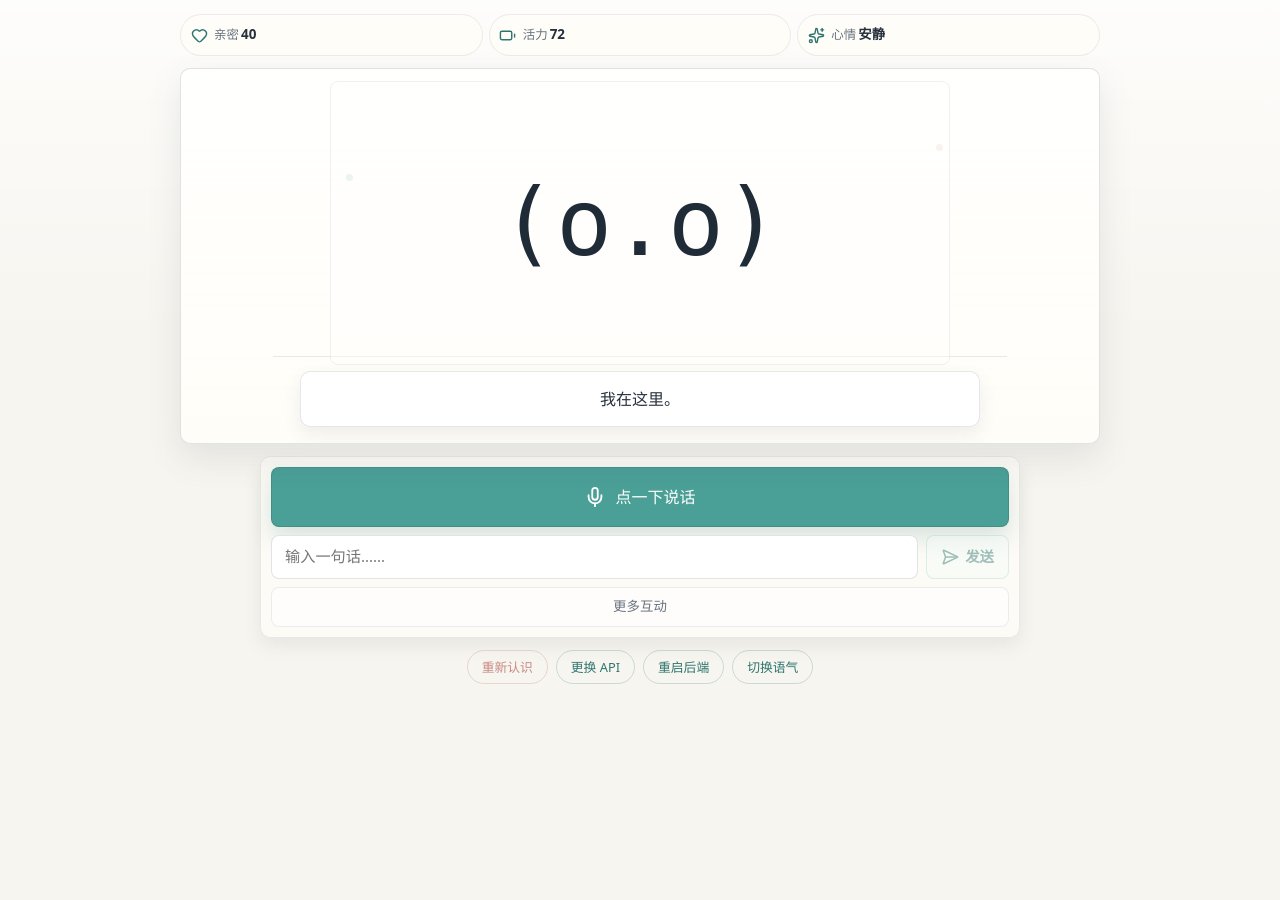
more interaction posts pet event and applies model response
Click the button "更多互动": [640, 607] box [271,587,1009,627]
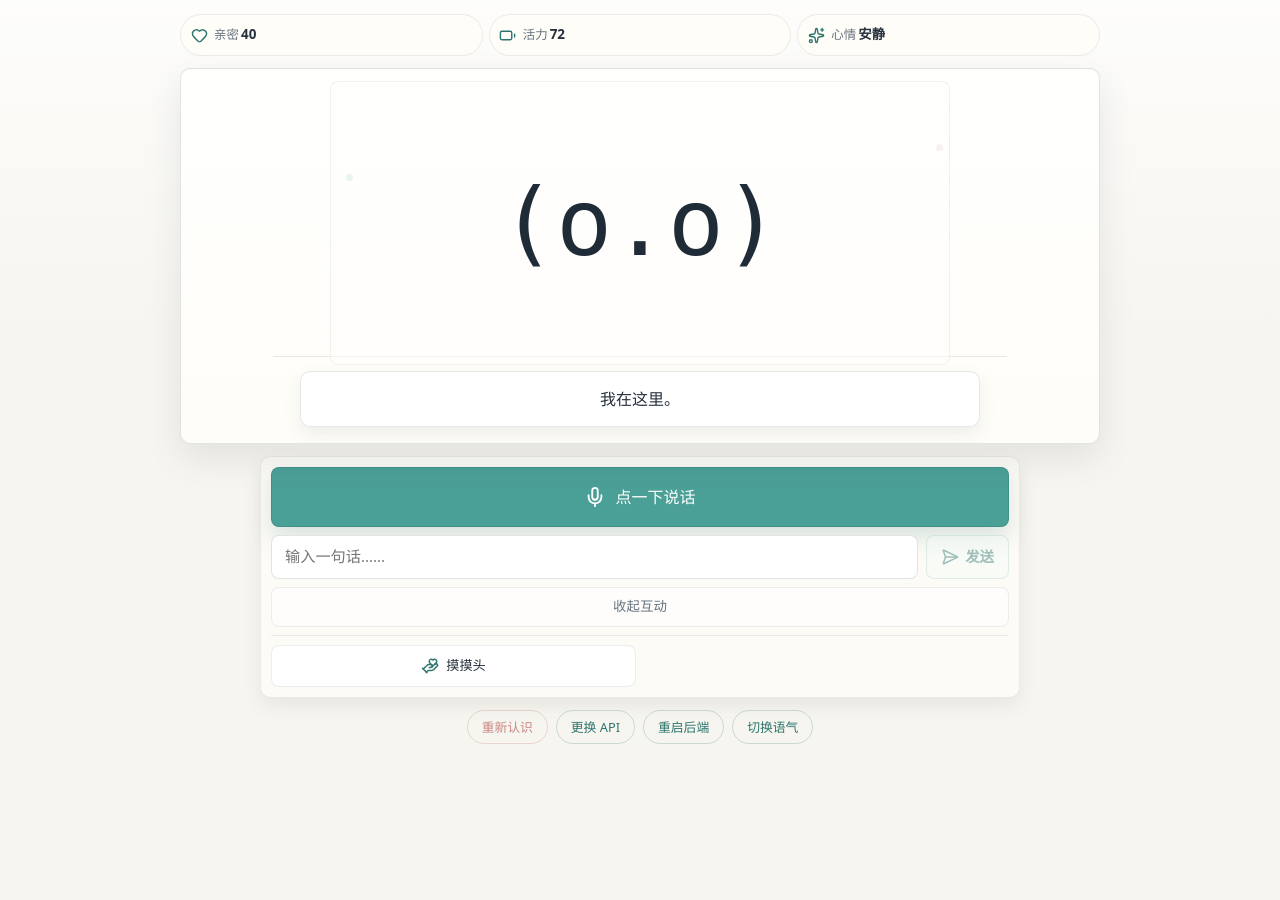
Click the button "摸摸头": [454, 666] box [271,645,636,687]
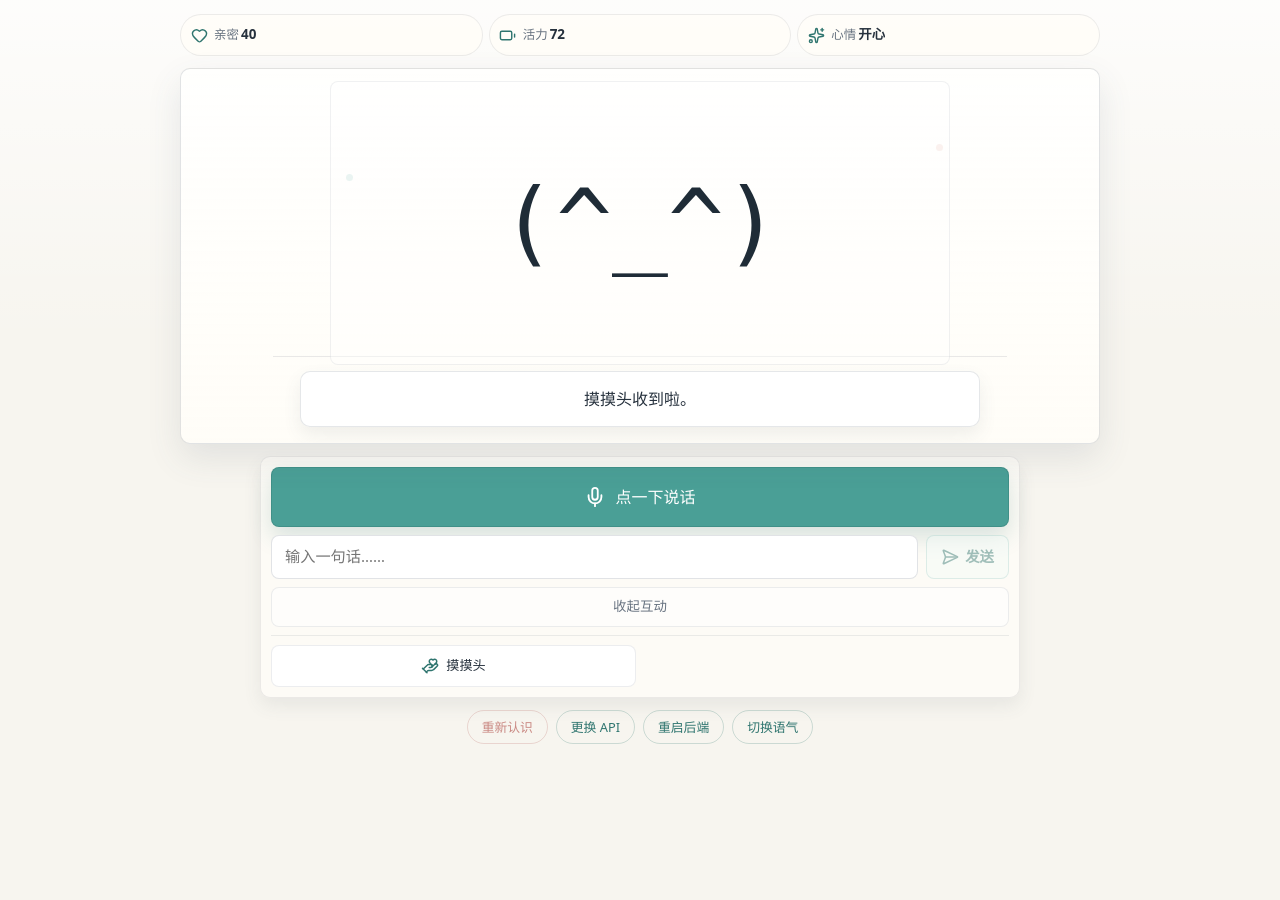
Expected: the text "摸摸头收到啦。" is shown, [300,371,980,427]
